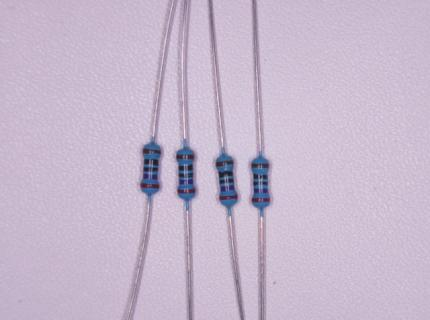Black band: (218, 171, 234, 178), (178, 164, 193, 171), (178, 172, 194, 178), (144, 159, 159, 165), (220, 178, 234, 184), (254, 174, 268, 179), (143, 167, 158, 171), (254, 182, 268, 186)
Brown band: (215, 159, 234, 167), (142, 148, 161, 154), (176, 154, 194, 159), (251, 163, 269, 168)
Red band: (139, 182, 159, 189), (177, 188, 196, 194), (219, 194, 238, 200), (252, 197, 271, 202)
Violet band: (220, 185, 236, 192), (143, 173, 158, 180), (180, 178, 193, 184), (254, 188, 269, 193)
